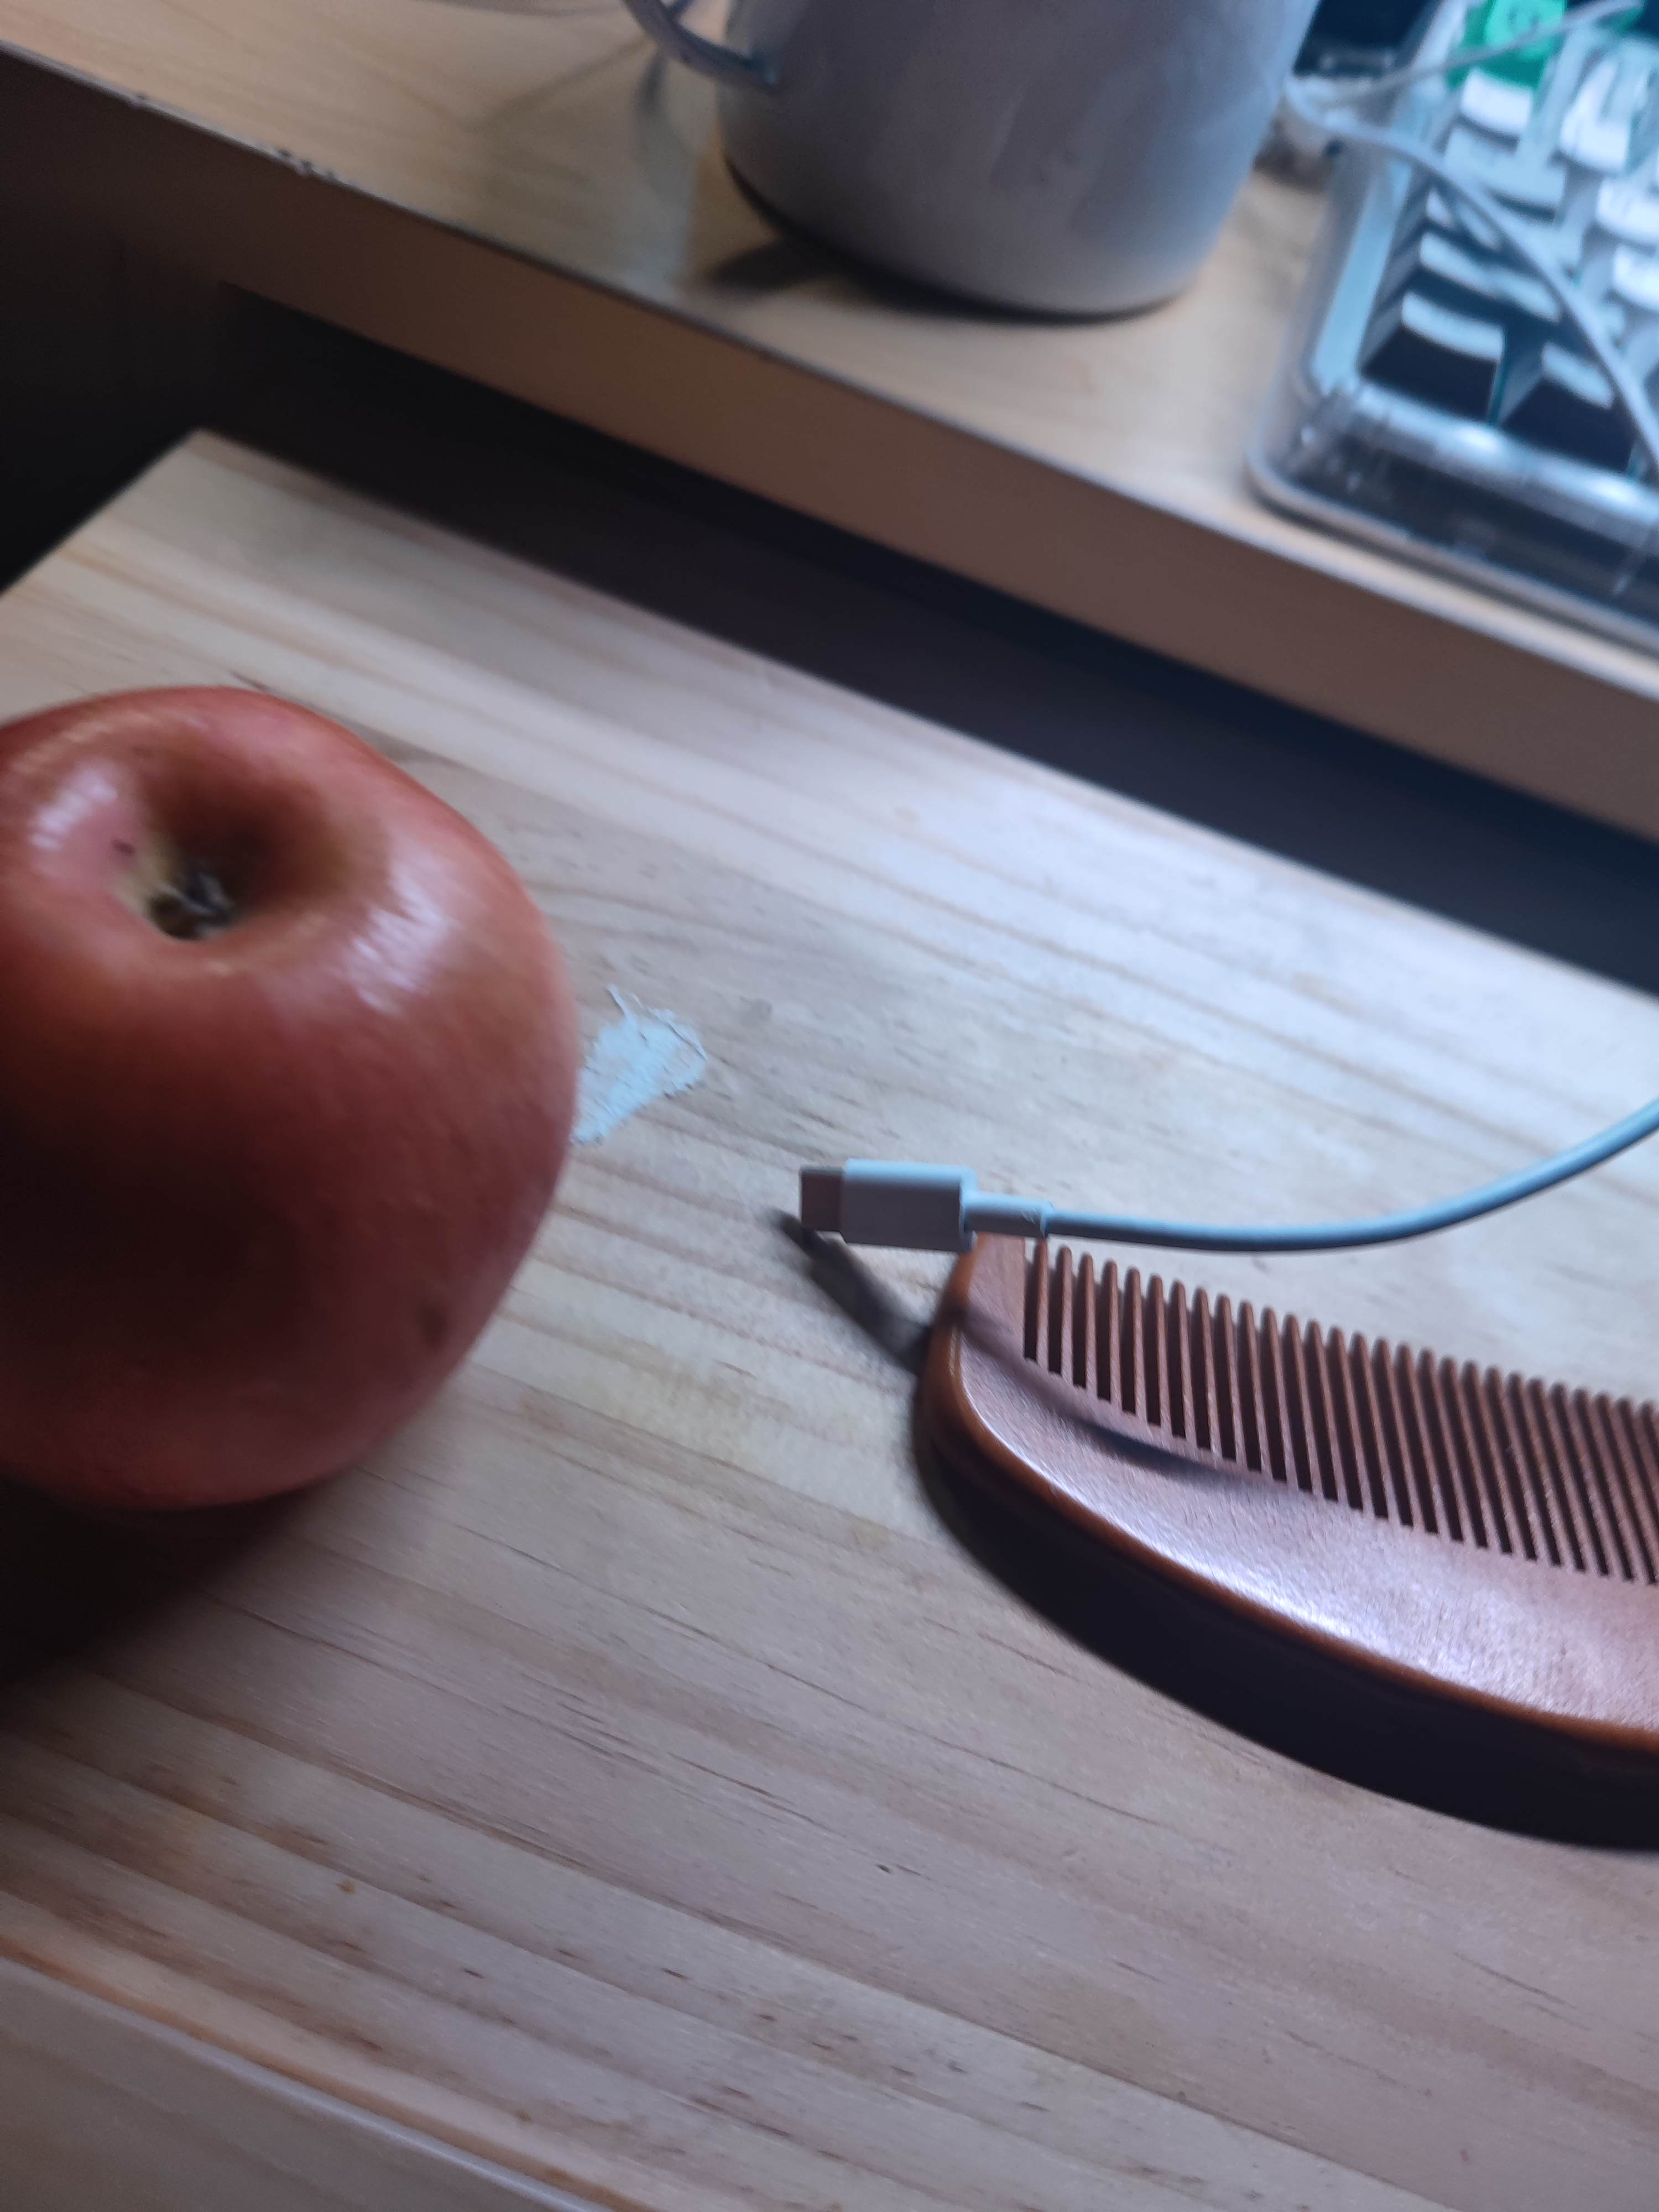apple: (0, 676, 580, 1519)
